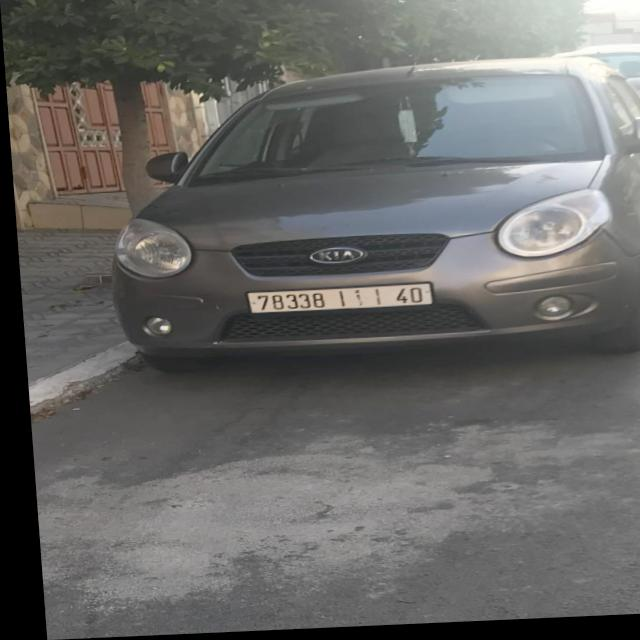License-Plate: (242, 287, 428, 316)
